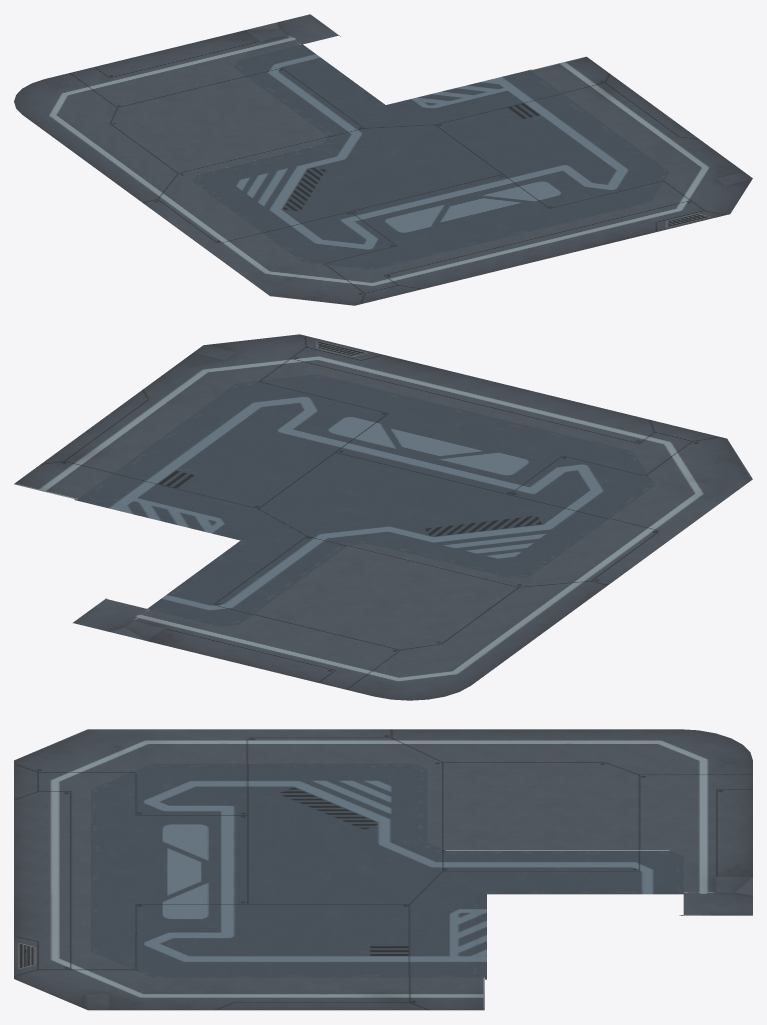
File: Pico_01_2_R.fbx
The picture shows the model from 3 angles, top to bottom: view 1: azimuth 30°, elevation 25°; view 2: azimuth 150°, elevation 25°; view 3: azimuth 270°, elevation 25°; orthographic projection. The views are drawn at different scales.
Parts seen in each view (by area): view 1: Pico_01_2_DiMian, Pico_01_2_DiBan; view 2: Pico_01_2_DiMian, Pico_01_2_DiBan; view 3: Pico_01_2_DiMian, Pico_01_2_DiBan.
Part boxes in pixels (box(x1,y1,x2,y2)): Pico_01_2_DiMian: box(14, 14, 752, 305); Pico_01_2_DiBan: box(192, 44, 669, 269); Pico_01_2_DiMian: box(14, 334, 752, 700); Pico_01_2_DiBan: box(74, 374, 654, 626); Pico_01_2_DiMian: box(14, 729, 752, 1010); Pico_01_2_DiBan: box(91, 763, 683, 979).
Bounding box in the file's own units: 900 × 0.756 × 1000.
Materials: 1 (1 with a texture image).
